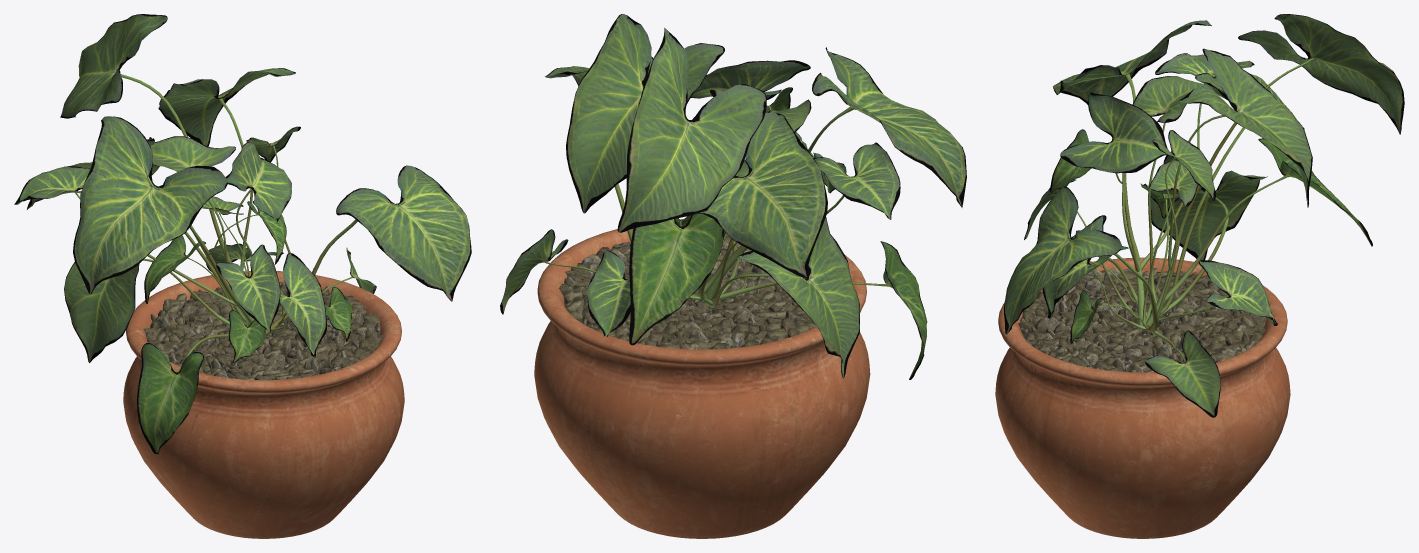
File: potted_plant_02.glb
3 views of the same model, side by side, from view 1: azimuth 30°, elevation 25°; view 2: azimuth 150°, elevation 25°; view 3: azimuth 270°, elevation 25° (orthographic). The views are drawn at different scales.
Parts seen in each view (by area): view 1: potted_plant_02_m1, potted_plant_02_m2, potted_plant_02_m0; view 2: potted_plant_02_m1, potted_plant_02_m2, potted_plant_02_m0; view 3: potted_plant_02_m1, potted_plant_02_m2, potted_plant_02_m0.
Boxes of the visible parts, x1,y1,x2,y2 form: potted_plant_02_m1: (14,14,471,454); potted_plant_02_m2: (123,271,404,538); potted_plant_02_m0: (143,282,383,380); potted_plant_02_m1: (500,14,966,379); potted_plant_02_m2: (534,219,870,538); potted_plant_02_m0: (559,234,816,349); potted_plant_02_m1: (1004,14,1404,417); potted_plant_02_m2: (995,257,1290,538); potted_plant_02_m0: (1018,267,1266,372).
Size of the model in its own units: 0.6205 by 0.7444 by 0.5817.
2 materials, 2 textured.
